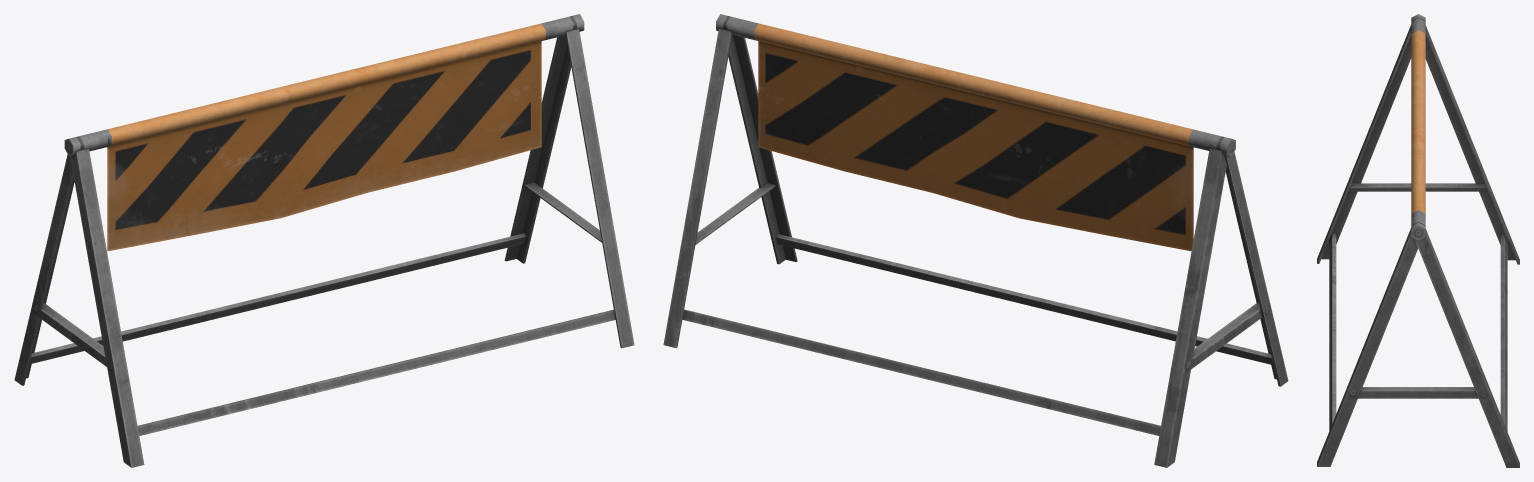
File: jctStreetStandA.fbx
The picture shows the model from 3 angles, left to right: view 1: azimuth 30°, elevation 25°; view 2: azimuth 150°, elevation 25°; view 3: azimuth 270°, elevation 25°; orthographic projection. The views are drawn at different scales.
Parts seen in each view (by area): view 1: jctStreetStandA; view 2: jctStreetStandA; view 3: jctStreetStandA.
Part boxes in pixels (left/top/right/bottom): jctStreetStandA: left=14, top=14, right=634, bottom=467; jctStreetStandA: left=663, top=14, right=1288, bottom=467; jctStreetStandA: left=1317, top=14, right=1519, bottom=467.
Bounding box in the file's own units: 120 × 64.29 × 48.54.
